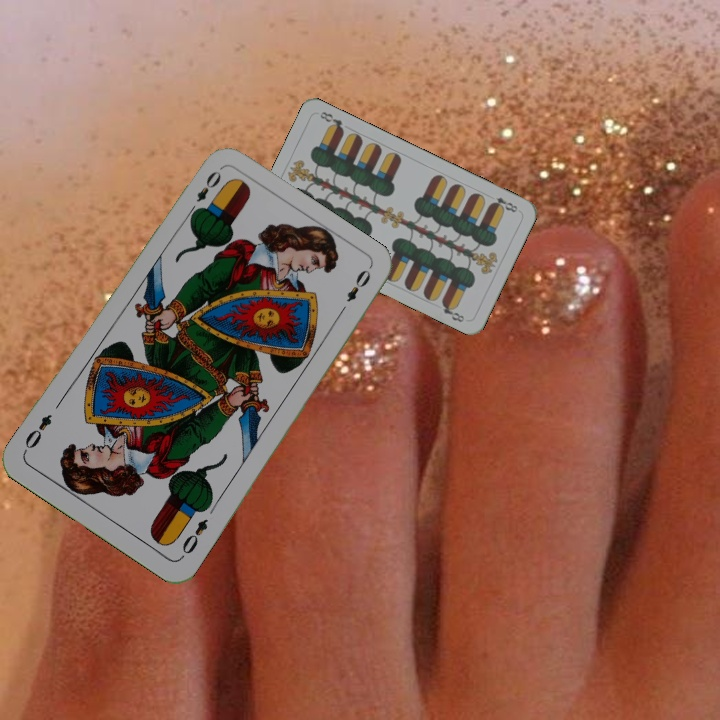E8: (486, 193, 522, 215)
EO: (184, 166, 224, 218), (177, 514, 211, 561)
